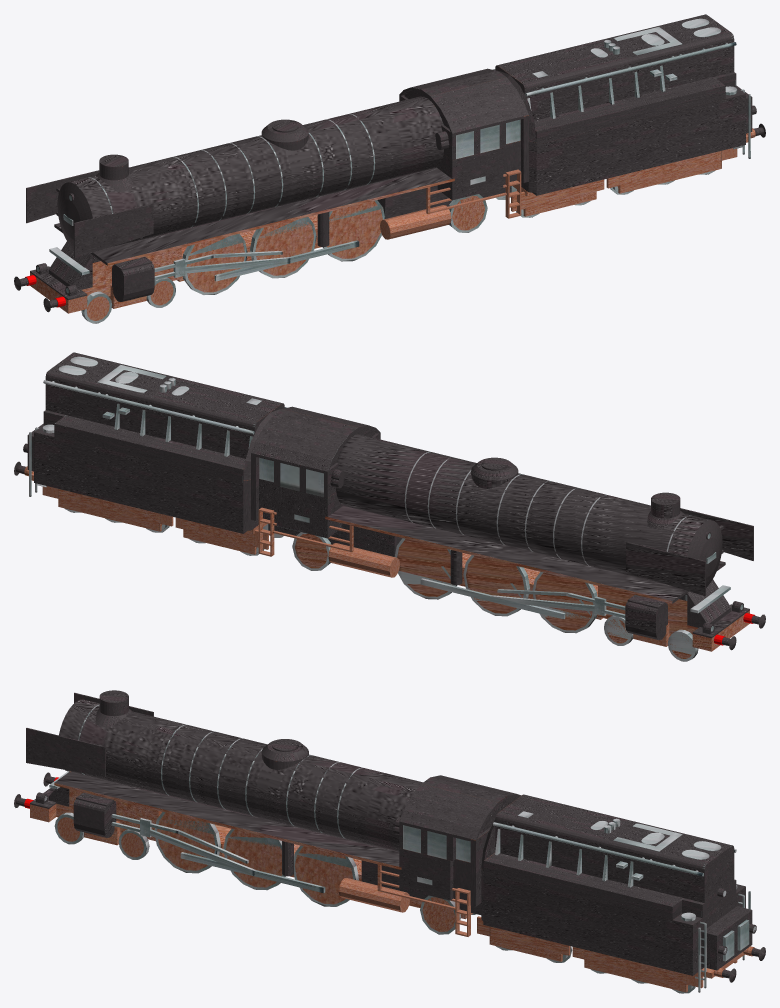
Rendered from GMLID_0574825_29536_285.gltf.
The picture shows the model from 3 angles, top to bottom: view 1: azimuth 30°, elevation 25°; view 2: azimuth 150°, elevation 25°; view 3: azimuth 330°, elevation 25°; orthographic projection.
Visible parts, largest first — view 1: Z_UP; view 2: Z_UP; view 3: Z_UP.
Part boxes in pixels (box(x1,y1,x2,y2)): Z_UP: box(14, 14, 765, 323); Z_UP: box(14, 352, 765, 661); Z_UP: box(14, 690, 765, 993).
Size of the model in its own units: 31.75 by 6.16 by 4.06.
2 materials, 1 textured.
